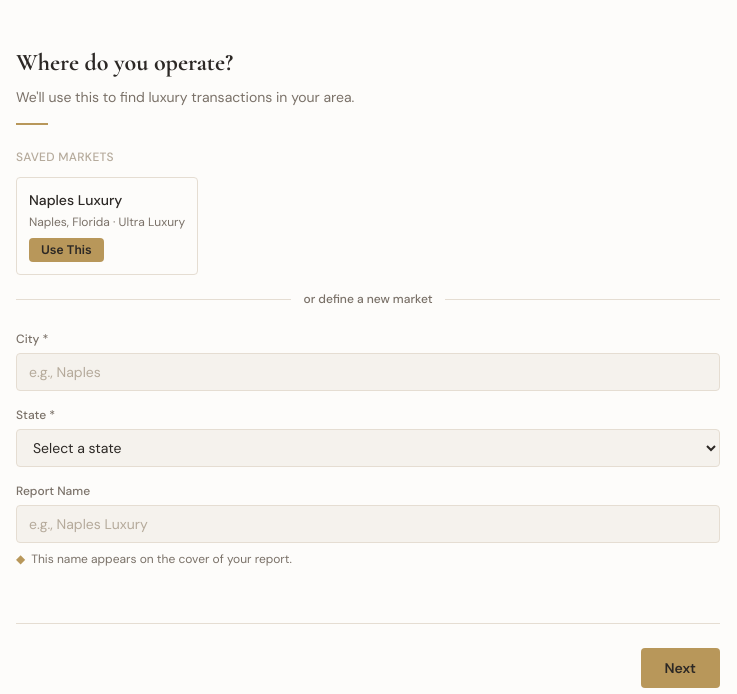
Test case: Unified Creation Flow Shell (#151) › CreationFlowShell › goes back to step 1 when Back is clicked
(page scrolled)
Click the button "Next": [680, 668] box [640,648,720,688]
(page scrolled)
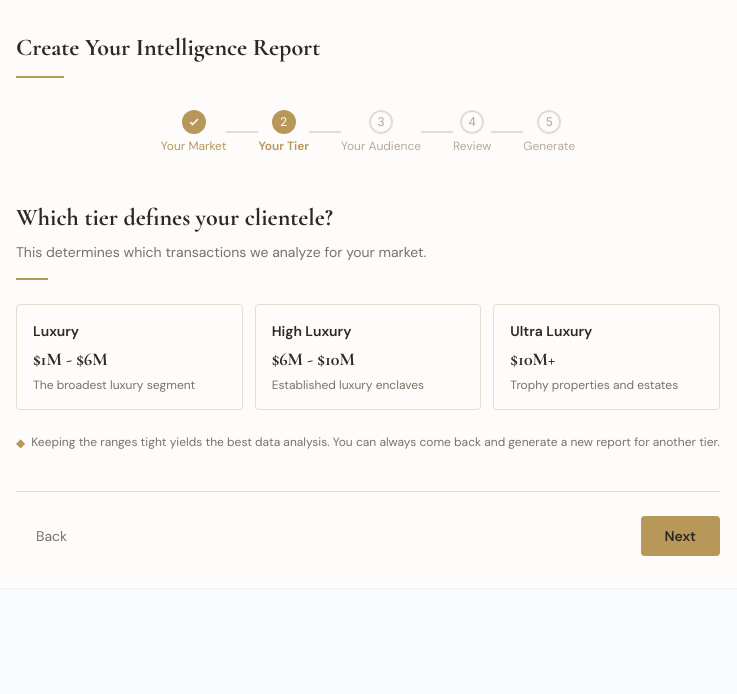
Click the button "Back": [52, 536] box [16,516,87,556]
(page scrolled)
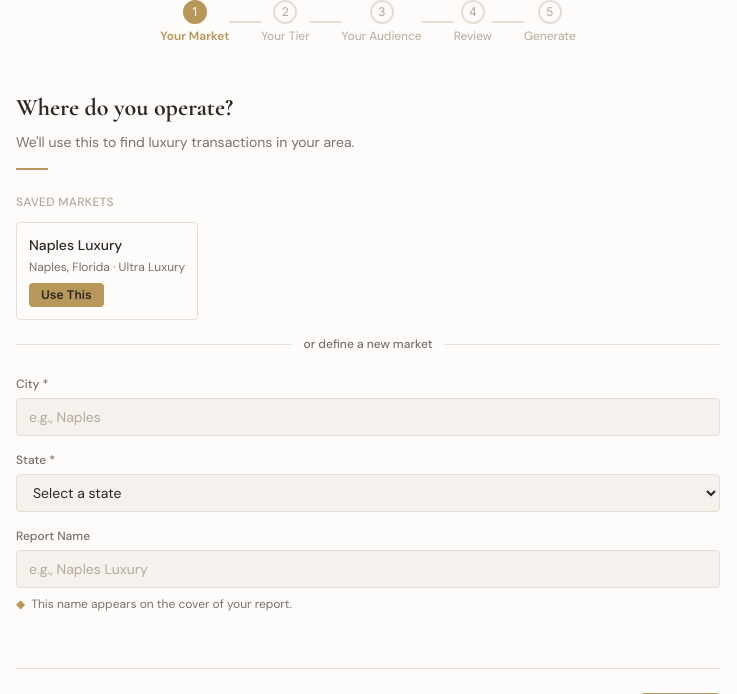
Check: the element with test id "step-content-0" is shown
